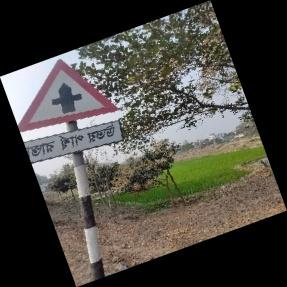Crossroad: (12, 58, 124, 166)
